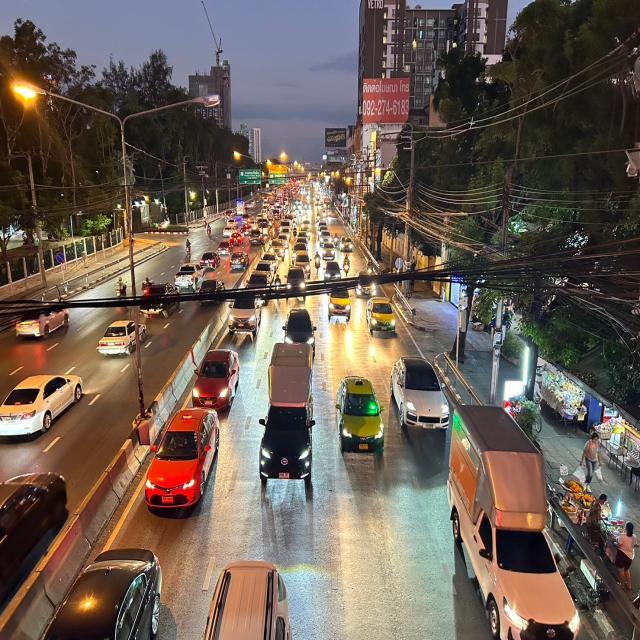car: (140, 394, 226, 519), (329, 365, 389, 458)
truck: (444, 397, 582, 640), (255, 338, 318, 496)
